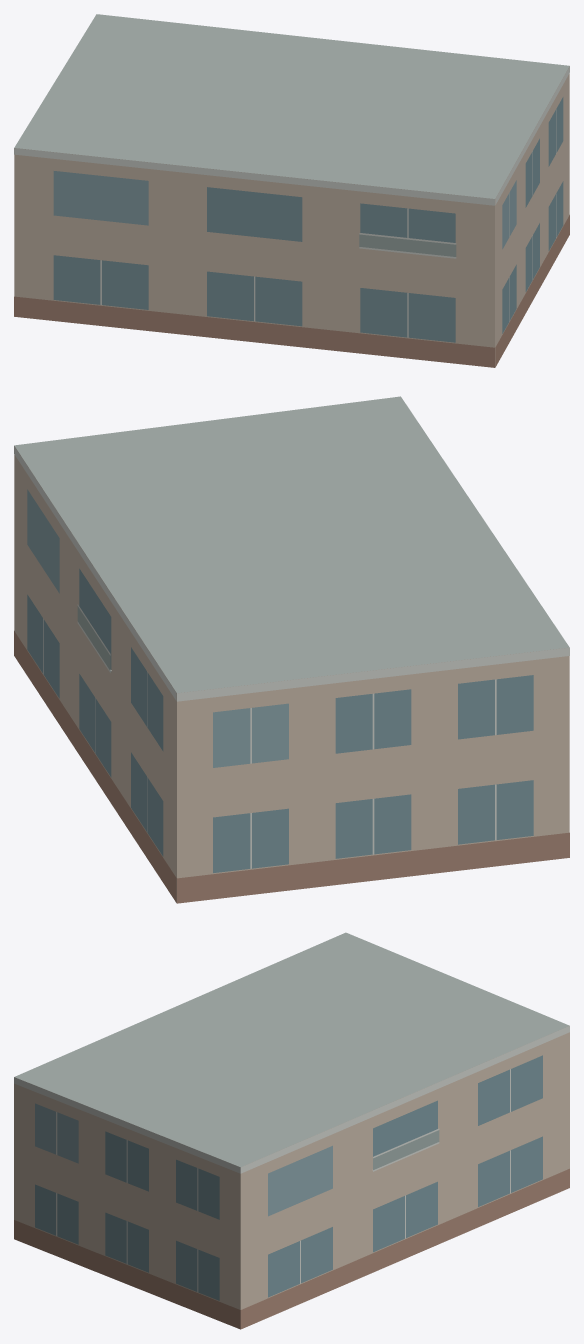
File: survey-upis-32886845.glb
3 renders of one model, top to bottom at view 1: azimuth 30°, elevation 25°; view 2: azimuth 150°, elevation 25°; view 3: azimuth 270°, elevation 25°, orthographic. The views are drawn at different scales.
Visible parts, largest first — view 1: survey-upis-32886845.tmp; view 2: survey-upis-32886845.tmp; view 3: survey-upis-32886845.tmp.
Boxes of the visible parts, box(x1,y1,x2,y2) form: survey-upis-32886845.tmp: box(14, 14, 569, 367); survey-upis-32886845.tmp: box(14, 396, 569, 903); survey-upis-32886845.tmp: box(14, 932, 569, 1329).
Size of the model in its own units: 18.95 by 6.1 by 18.95.
